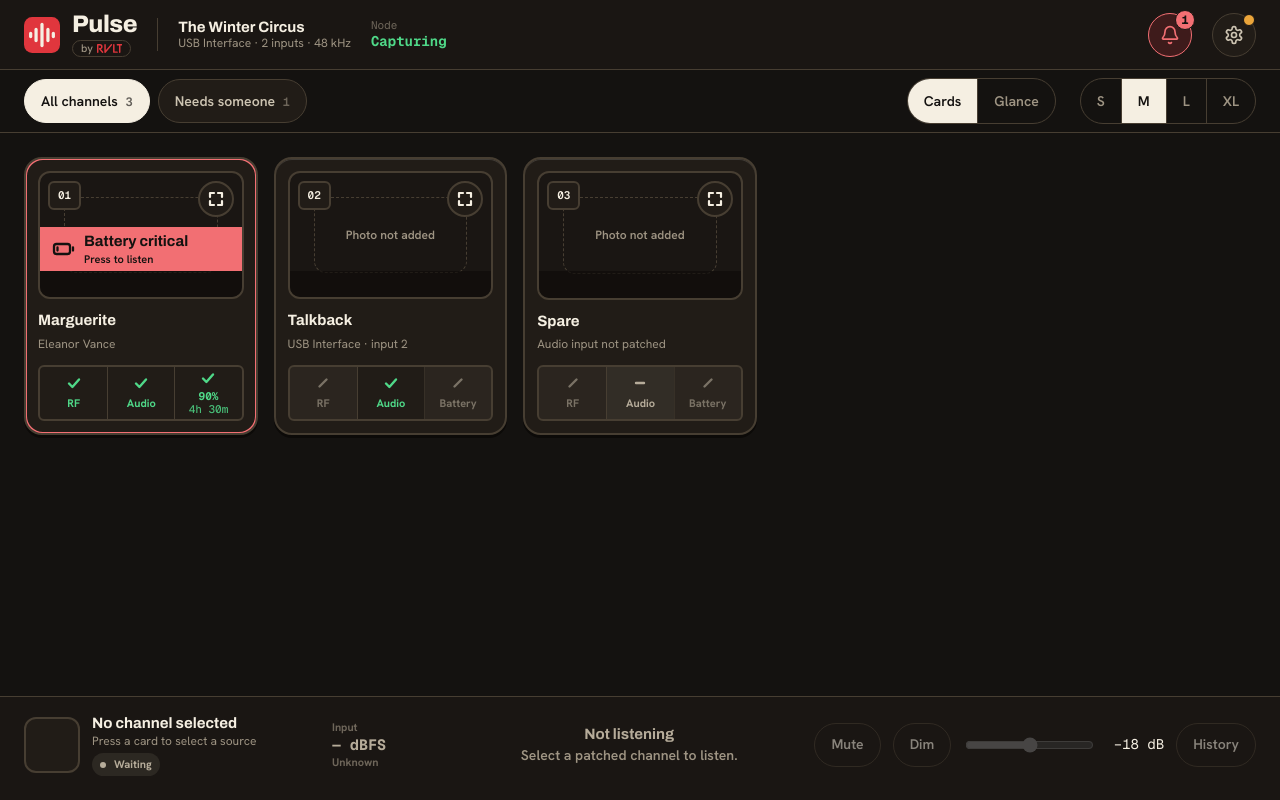
Test: Live channel grid › lists show-wide exceptions and what cleared recently
Click the button named "1 to acknowledge · 1 critical".
click(1170, 34)  # box [1148,12,1192,56]
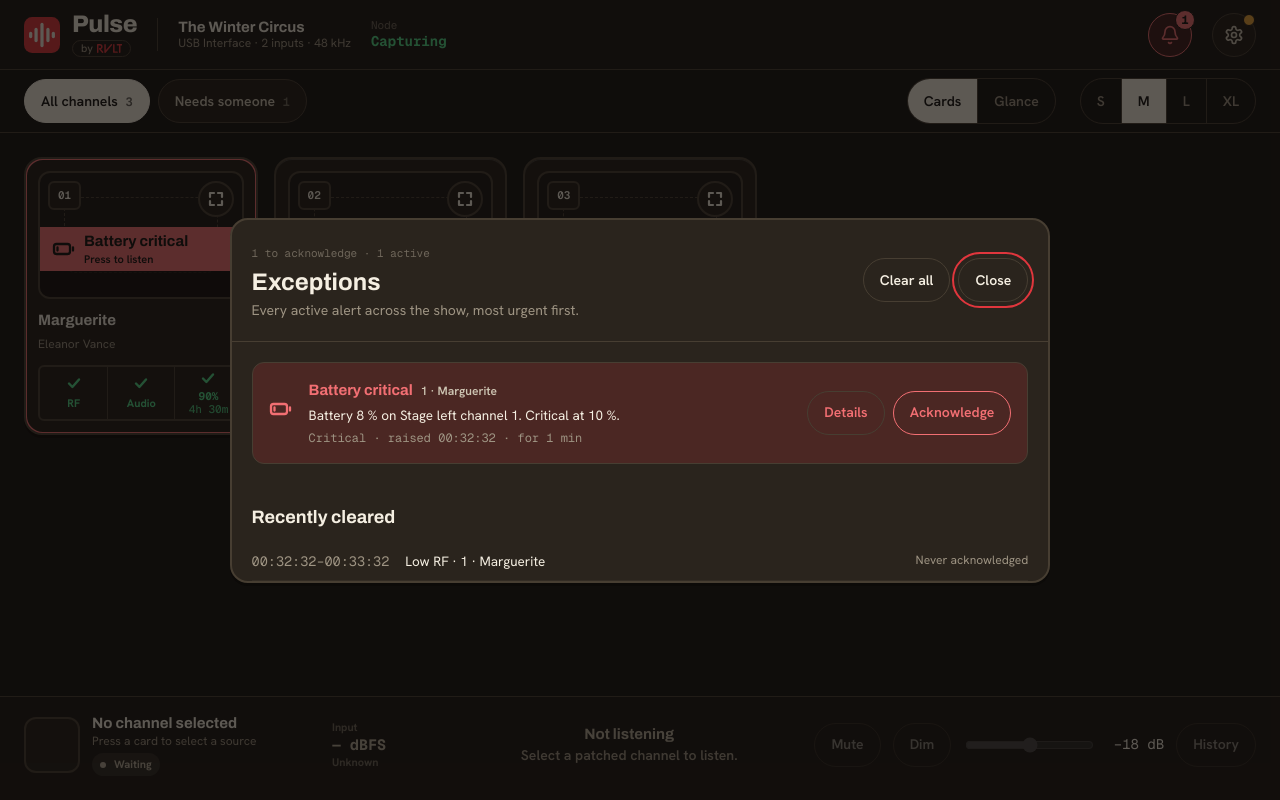
Expected: the text "Battery 8 % on Stage left channel 1. Critical at 10 %." is shown, [309,406,620,424]
Expected: the text "Low RF · 1 · Marguerite" is shown, [405,552,545,570]
Expected: the text "Never acknowledged" is shown, [916,551,1028,572]
